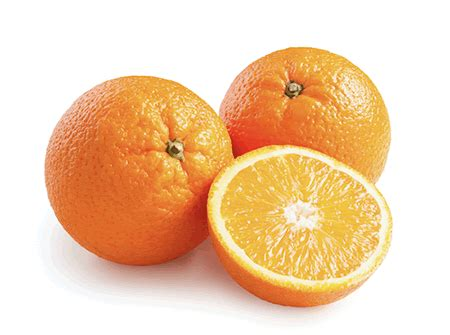orange: (38, 73, 237, 273), (218, 43, 395, 185)
